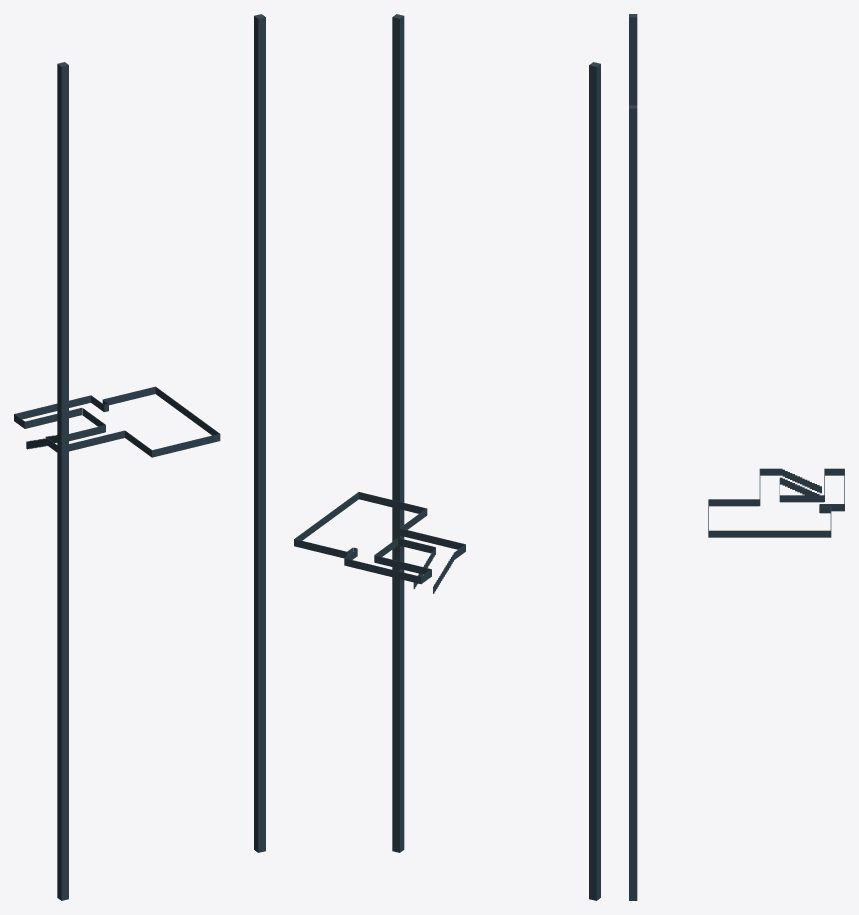
The model's file is v02-02-05-steel.glb.
3 renders of one model, left to right at view 1: azimuth 30°, elevation 25°; view 2: azimuth 150°, elevation 25°; view 3: azimuth 270°, elevation 25°, orthographic. The views are drawn at different scales.
Visible parts, largest first — view 1: v02-02-05-steel; view 2: v02-02-05-steel; view 3: v02-02-05-steel.
Part boxes in pixels (<box>): v02-02-05-steel: <box>14,14,265,900</box>; v02-02-05-steel: <box>294,14,600,900</box>; v02-02-05-steel: <box>629,14,844,900</box>.
Size of the model in its own units: 32.8 by 128 by 31.6.
